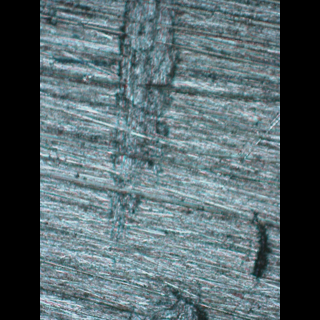d: (103, 0, 179, 239)
